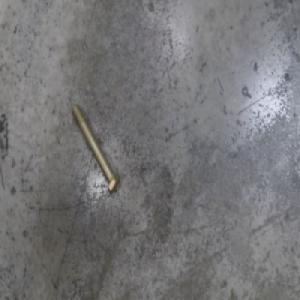Bolt: (70, 100, 120, 194)
